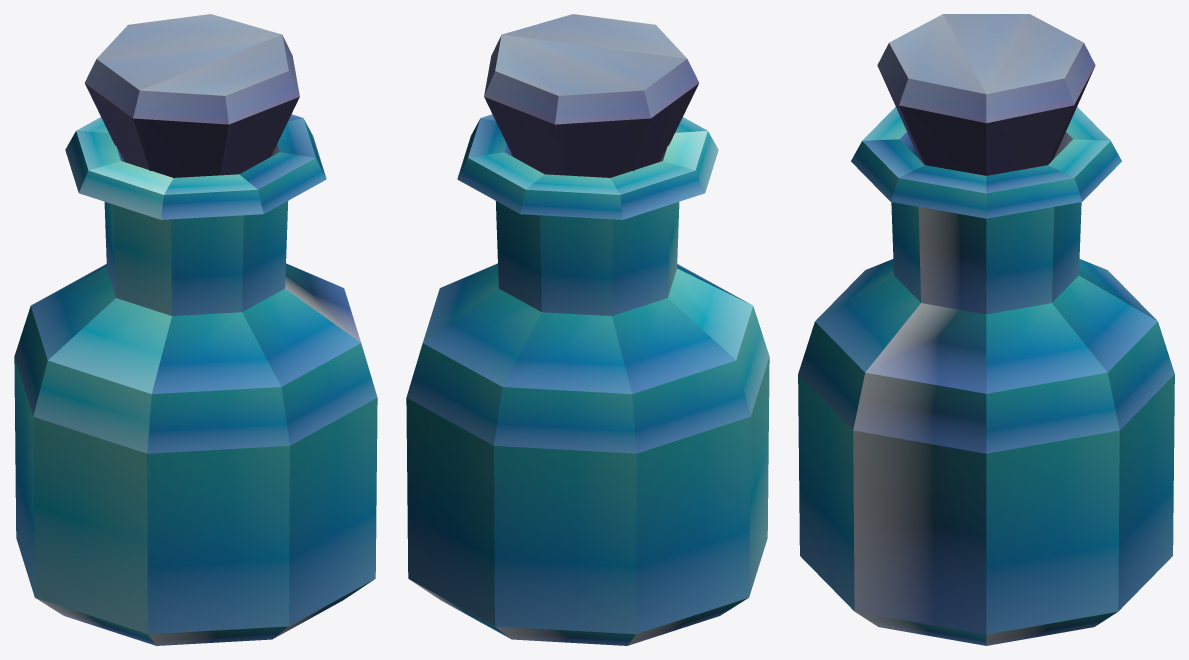
Rendered from vile02.fbx.
3 views of the same model, side by side, from view 1: azimuth 30°, elevation 25°; view 2: azimuth 150°, elevation 25°; view 3: azimuth 270°, elevation 25° (orthographic).
Visible parts, largest first — view 1: vile, vileCork; view 2: vile, vileCork; view 3: vile, vileCork.
Part boxes in pixels (bbox=[...]): vile: bbox=[14, 114, 377, 645]; vileCork: bbox=[85, 14, 299, 177]; vile: bbox=[406, 114, 769, 645]; vileCork: bbox=[484, 14, 698, 177]; vile: bbox=[798, 106, 1174, 645]; vileCork: bbox=[877, 14, 1095, 175].
Bounding box in the file's own units: 69.29 × 107 × 69.29.
